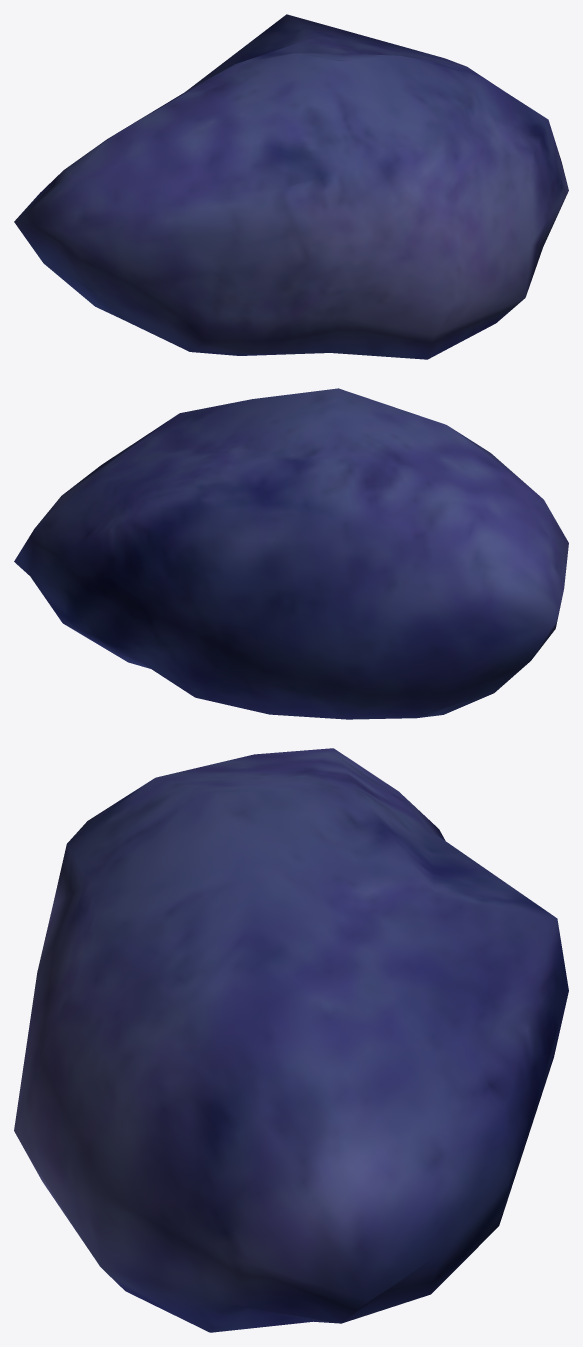
Rendered from Stone001.fbx.
The picture shows the model from 3 angles, top to bottom: view 1: azimuth 30°, elevation 25°; view 2: azimuth 150°, elevation 25°; view 3: azimuth 270°, elevation 25°; orthographic projection. The views are drawn at different scales.
Visible parts, largest first — view 1: stone; view 2: stone; view 3: stone.
Part boxes in pixels (x1,y1,x2,y2): stone: (14,14,568,359); stone: (14,388,568,719); stone: (14,748,568,1332).
Bounding box in the file's own units: 2.07 × 1.03 × 1.22.
1 material, 1 textured.
